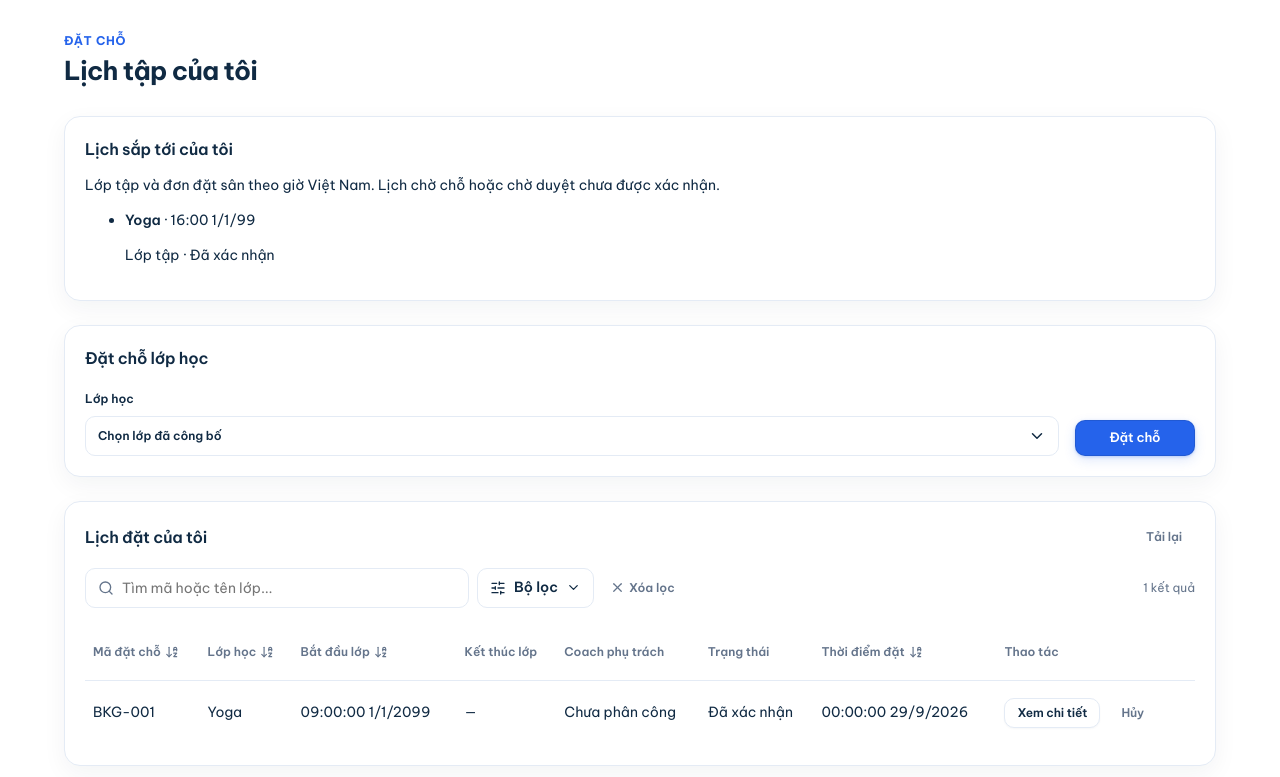
BookingsPage › reports promotion accurately after cancelling a booking (promoted-1)
Step 1. Click the button "Hủy" → (1133, 713), box [1108,698,1157,728]
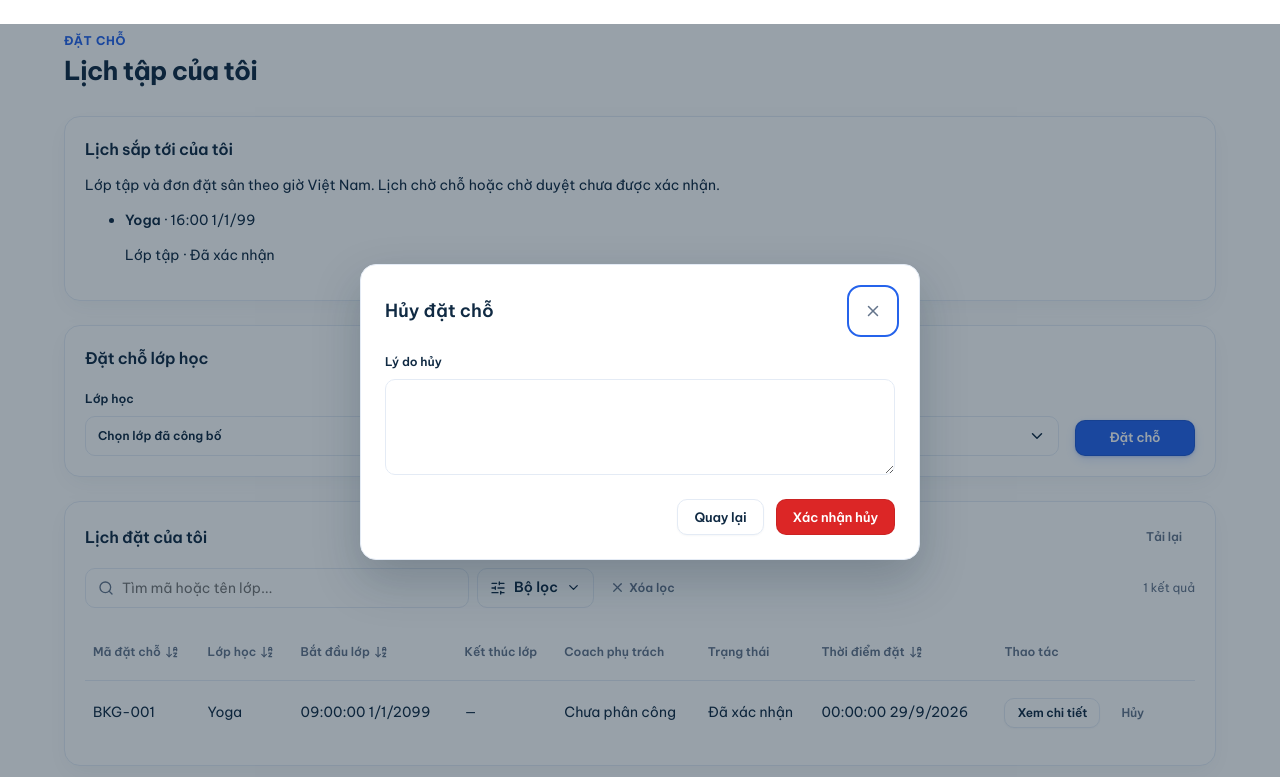
Step 2. Type "Kiểm thử QA" into the text box labelled "Lý do hủy" → (640, 427), box [385,379,895,475]
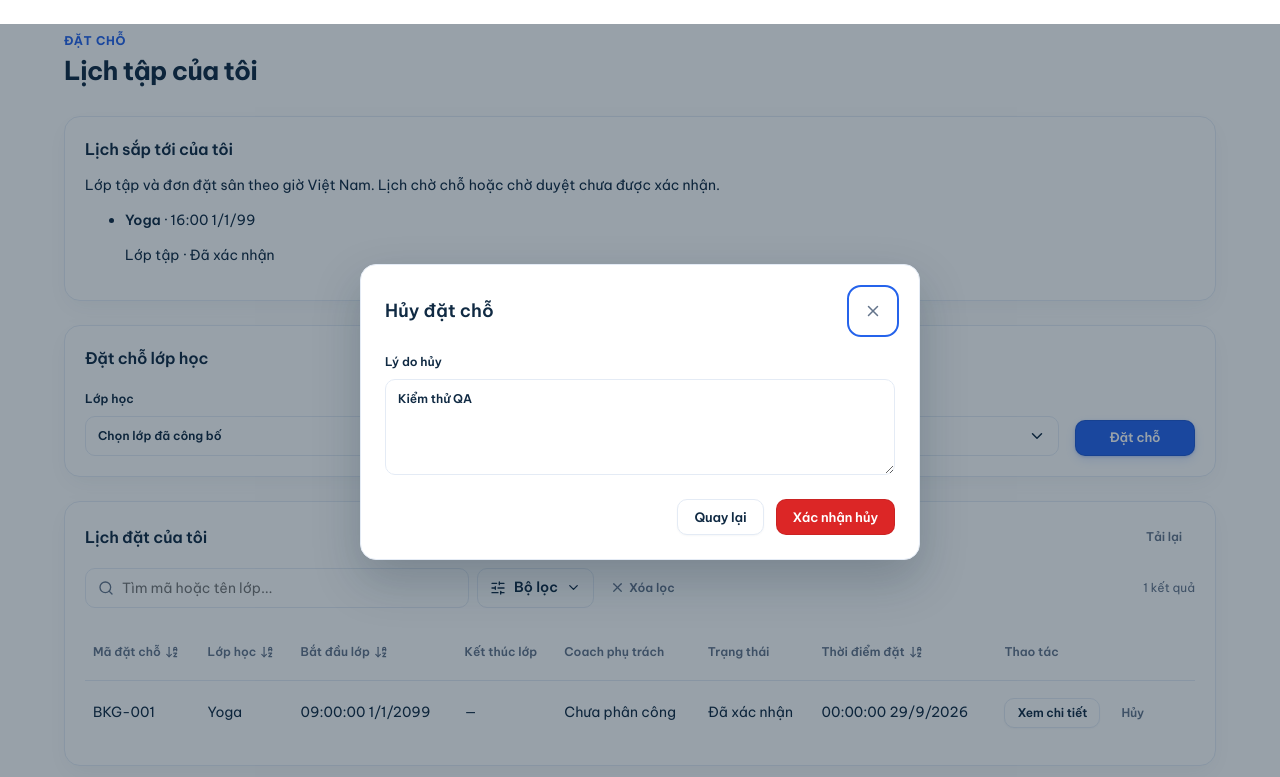
Step 3. Click the button "Xác nhận hủy" → (835, 517), box [776,499,895,535]
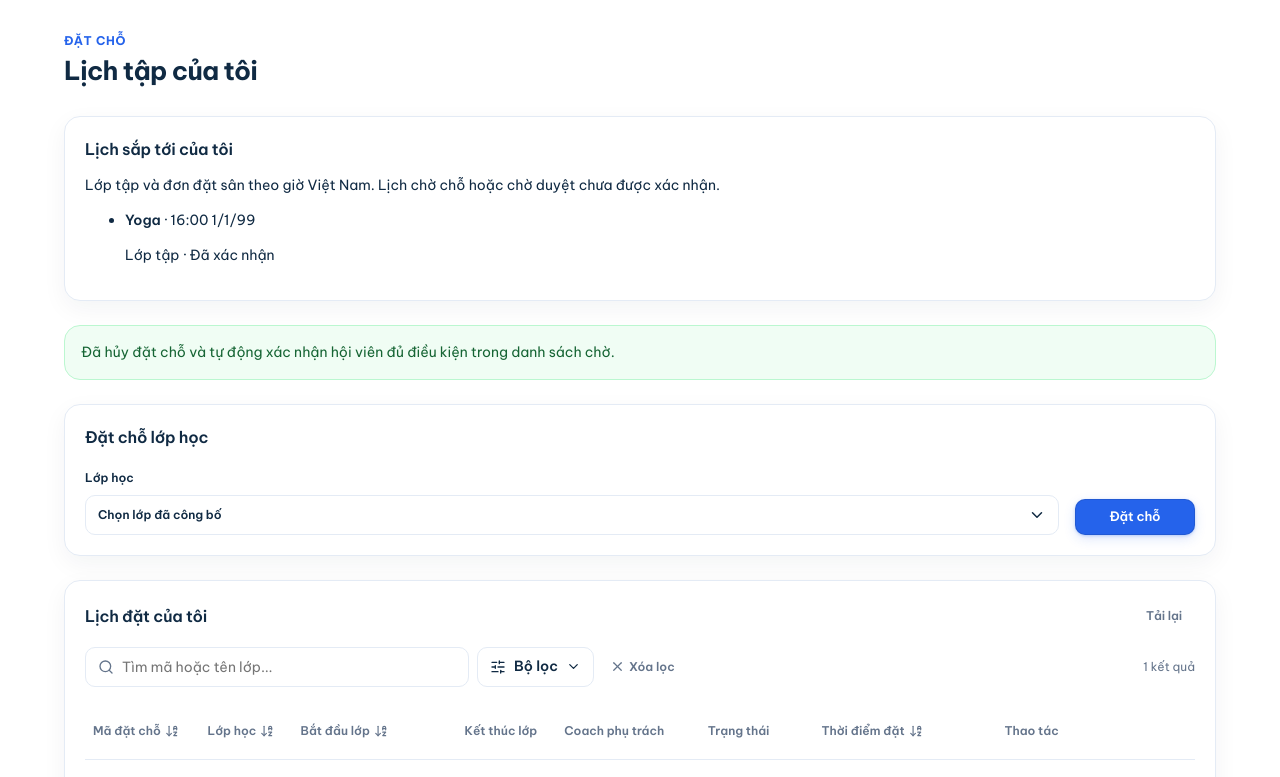
Check: the message reads "Đã hủy đặt chỗ và tự động xác nhận hội viên đủ điều kiện trong danh sách chờ.", box [81,343,615,361]
